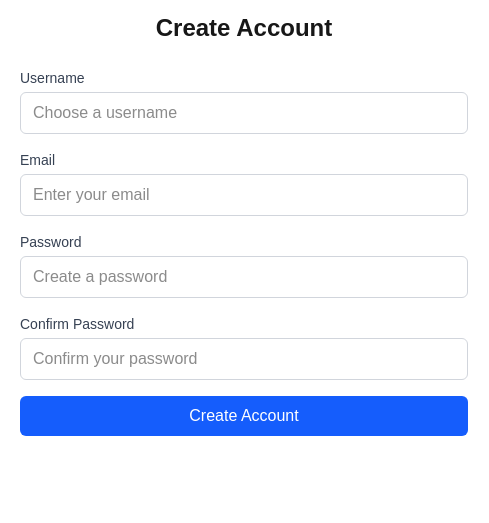
Test: RegisterForm › should display error for short username
Type "ab" into the field labelled "Username".
click(244, 113); type("ab")  # box left=20, top=92, right=468, bottom=134
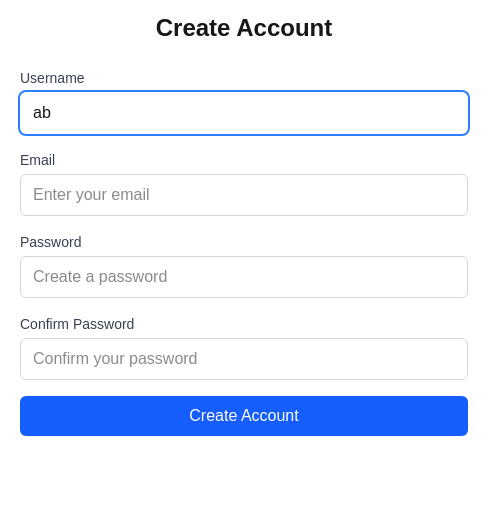
Type "test@example.com" into the field labelled "Email".
click(244, 195); type("test@example.com")  # box left=20, top=174, right=468, bottom=216
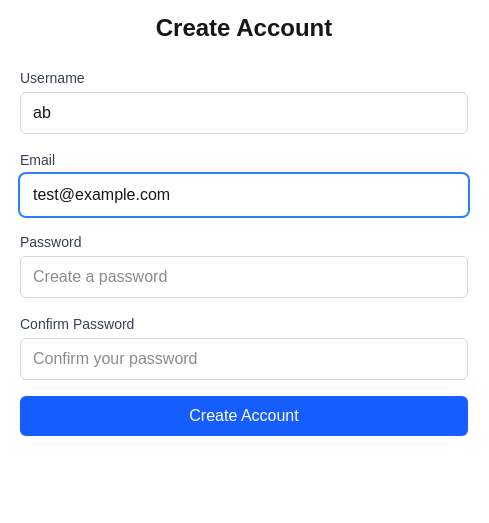
Type "password123" into the password field labelled "Password".
click(244, 277); type("password123")  # box left=20, top=256, right=468, bottom=298
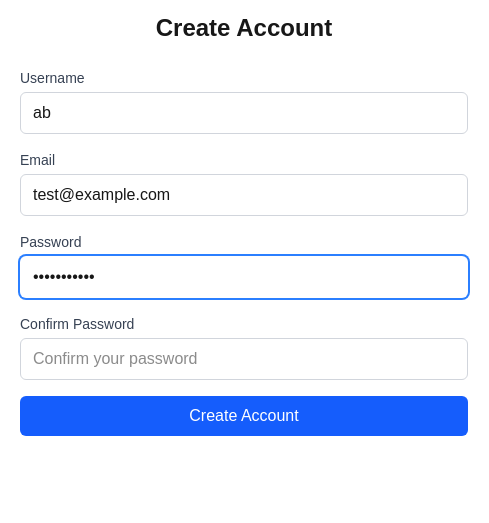
Type "password123" into the password field labelled "Confirm Password".
click(244, 359); type("password123")  # box left=20, top=338, right=468, bottom=380
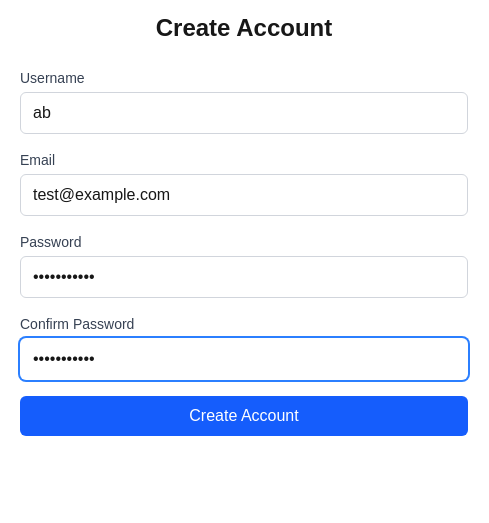
Click the button "Create Account".
click(244, 416)  # box left=20, top=396, right=468, bottom=436
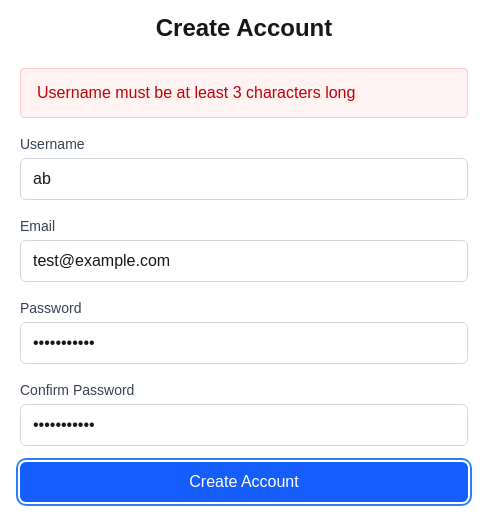
Expected: the text "Username must be at least 3 characters long" is shown, left=20, top=68, right=468, bottom=118
